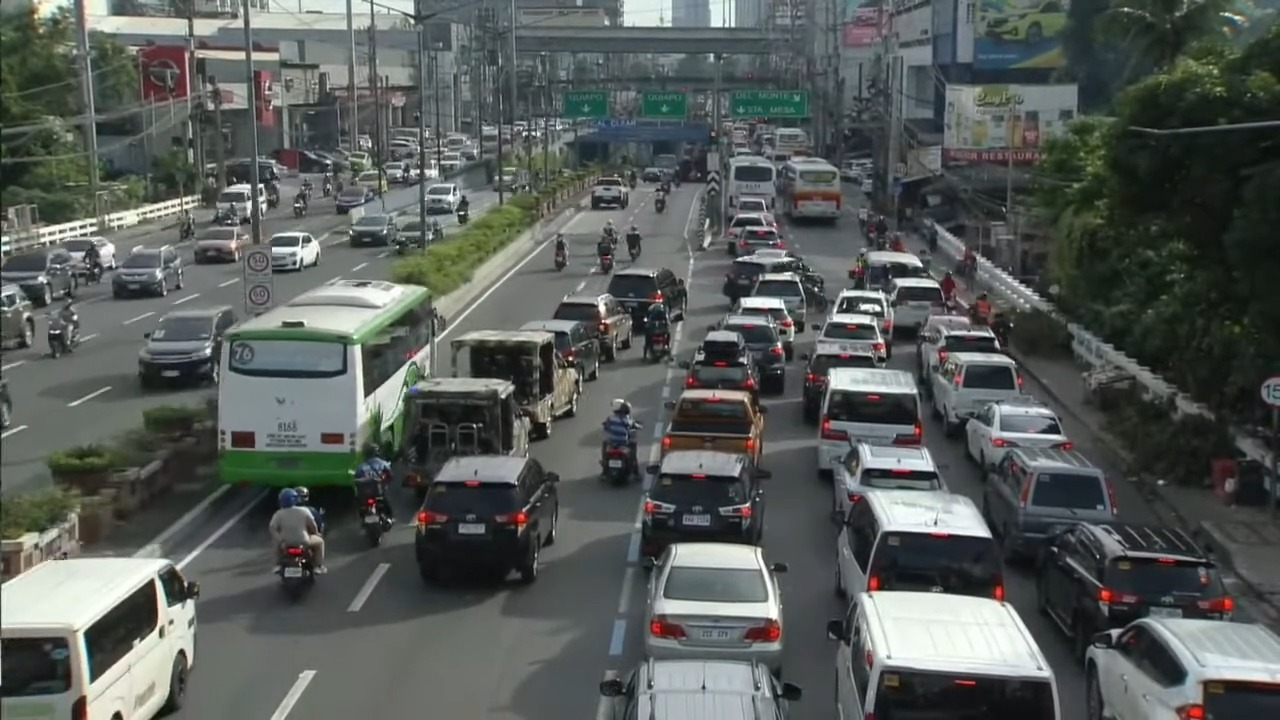bus: (217, 280, 436, 486), (779, 158, 842, 222), (725, 156, 777, 208), (774, 128, 809, 155)
car: (1036, 522, 1233, 656), (1085, 618, 1279, 719), (644, 542, 786, 676), (414, 455, 559, 583), (982, 448, 1117, 558), (640, 450, 769, 558), (600, 659, 800, 719), (832, 441, 947, 521), (138, 306, 237, 387), (965, 396, 1072, 469), (928, 353, 1022, 436), (801, 342, 882, 423), (917, 318, 1002, 390), (708, 315, 785, 394), (552, 293, 633, 361), (606, 266, 687, 330), (722, 249, 819, 302), (519, 320, 600, 380), (0, 247, 78, 306), (679, 344, 759, 397), (732, 295, 796, 360), (916, 314, 976, 382), (812, 314, 889, 364), (983, 0, 1067, 45), (112, 245, 183, 298), (749, 272, 807, 330), (886, 277, 944, 331), (828, 289, 893, 337), (726, 211, 780, 256), (0, 284, 34, 347), (193, 226, 250, 263), (269, 233, 320, 270), (61, 236, 117, 269), (348, 214, 398, 246), (731, 227, 784, 255), (399, 217, 443, 248), (590, 176, 628, 208), (335, 184, 375, 214), (426, 184, 461, 213), (298, 150, 334, 173), (730, 196, 768, 216), (356, 169, 388, 192), (493, 167, 519, 191), (0, 377, 12, 429), (346, 149, 370, 172), (439, 152, 463, 175), (383, 161, 407, 183), (640, 167, 664, 182), (860, 175, 873, 194)
motorcycle: (277, 545, 314, 600), (359, 496, 391, 546), (600, 443, 638, 485), (47, 314, 78, 358), (990, 314, 1013, 351), (647, 331, 669, 362), (214, 207, 241, 226), (85, 261, 103, 283), (627, 239, 641, 260), (598, 254, 613, 273), (180, 222, 194, 241), (554, 249, 566, 271), (293, 200, 306, 217), (456, 209, 469, 224), (654, 196, 665, 213), (268, 193, 279, 209), (322, 181, 332, 197), (659, 180, 669, 193), (628, 176, 636, 189)
truck: (450, 331, 581, 438), (661, 388, 765, 466)
